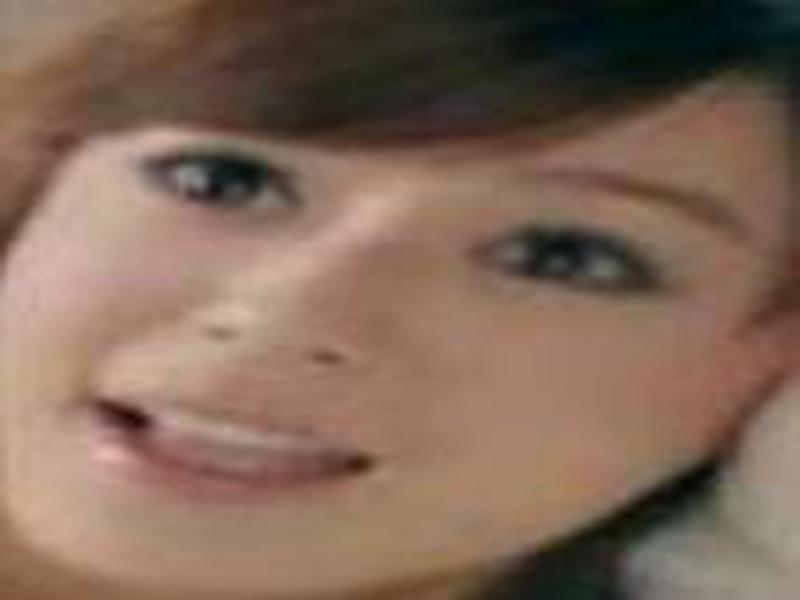without_mask: (6, 95, 776, 585)
